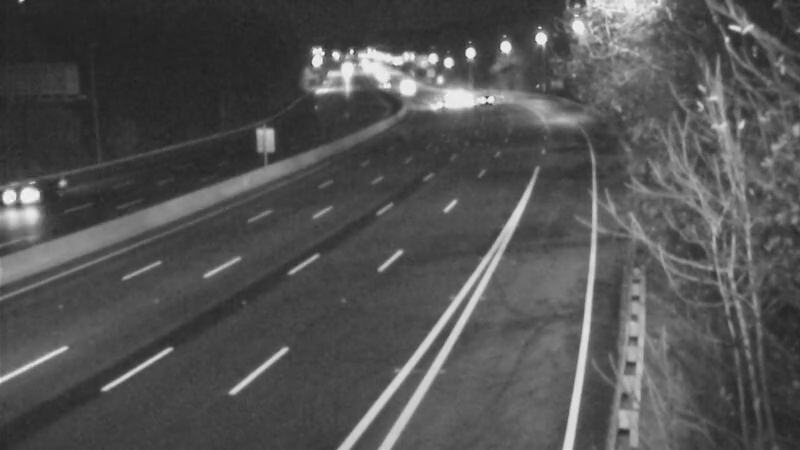vehicle: (1, 149, 75, 229), (379, 65, 429, 115), (427, 76, 477, 126), (457, 74, 507, 124), (412, 78, 462, 128)
